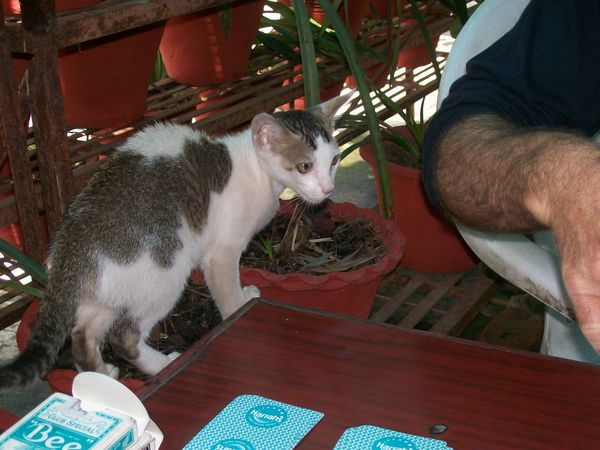cat: (1, 80, 360, 393)
